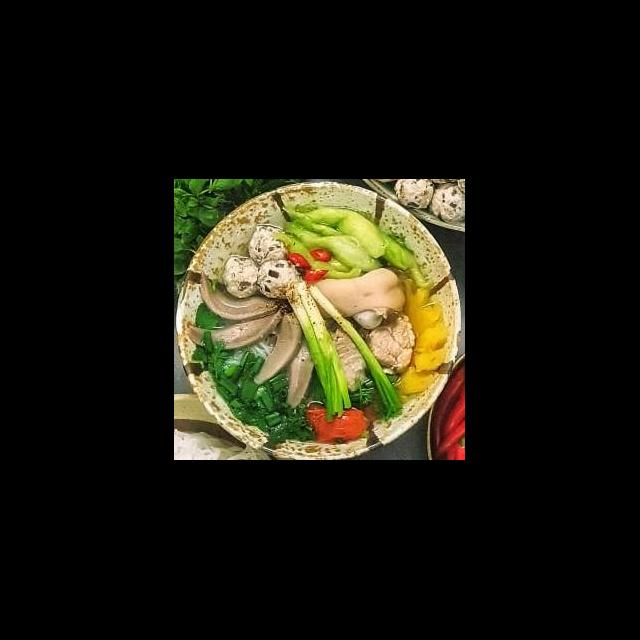thit heo: (366, 310, 420, 378), (324, 324, 372, 394)
vien moc: (218, 252, 262, 300), (254, 256, 304, 298), (244, 224, 290, 264)
